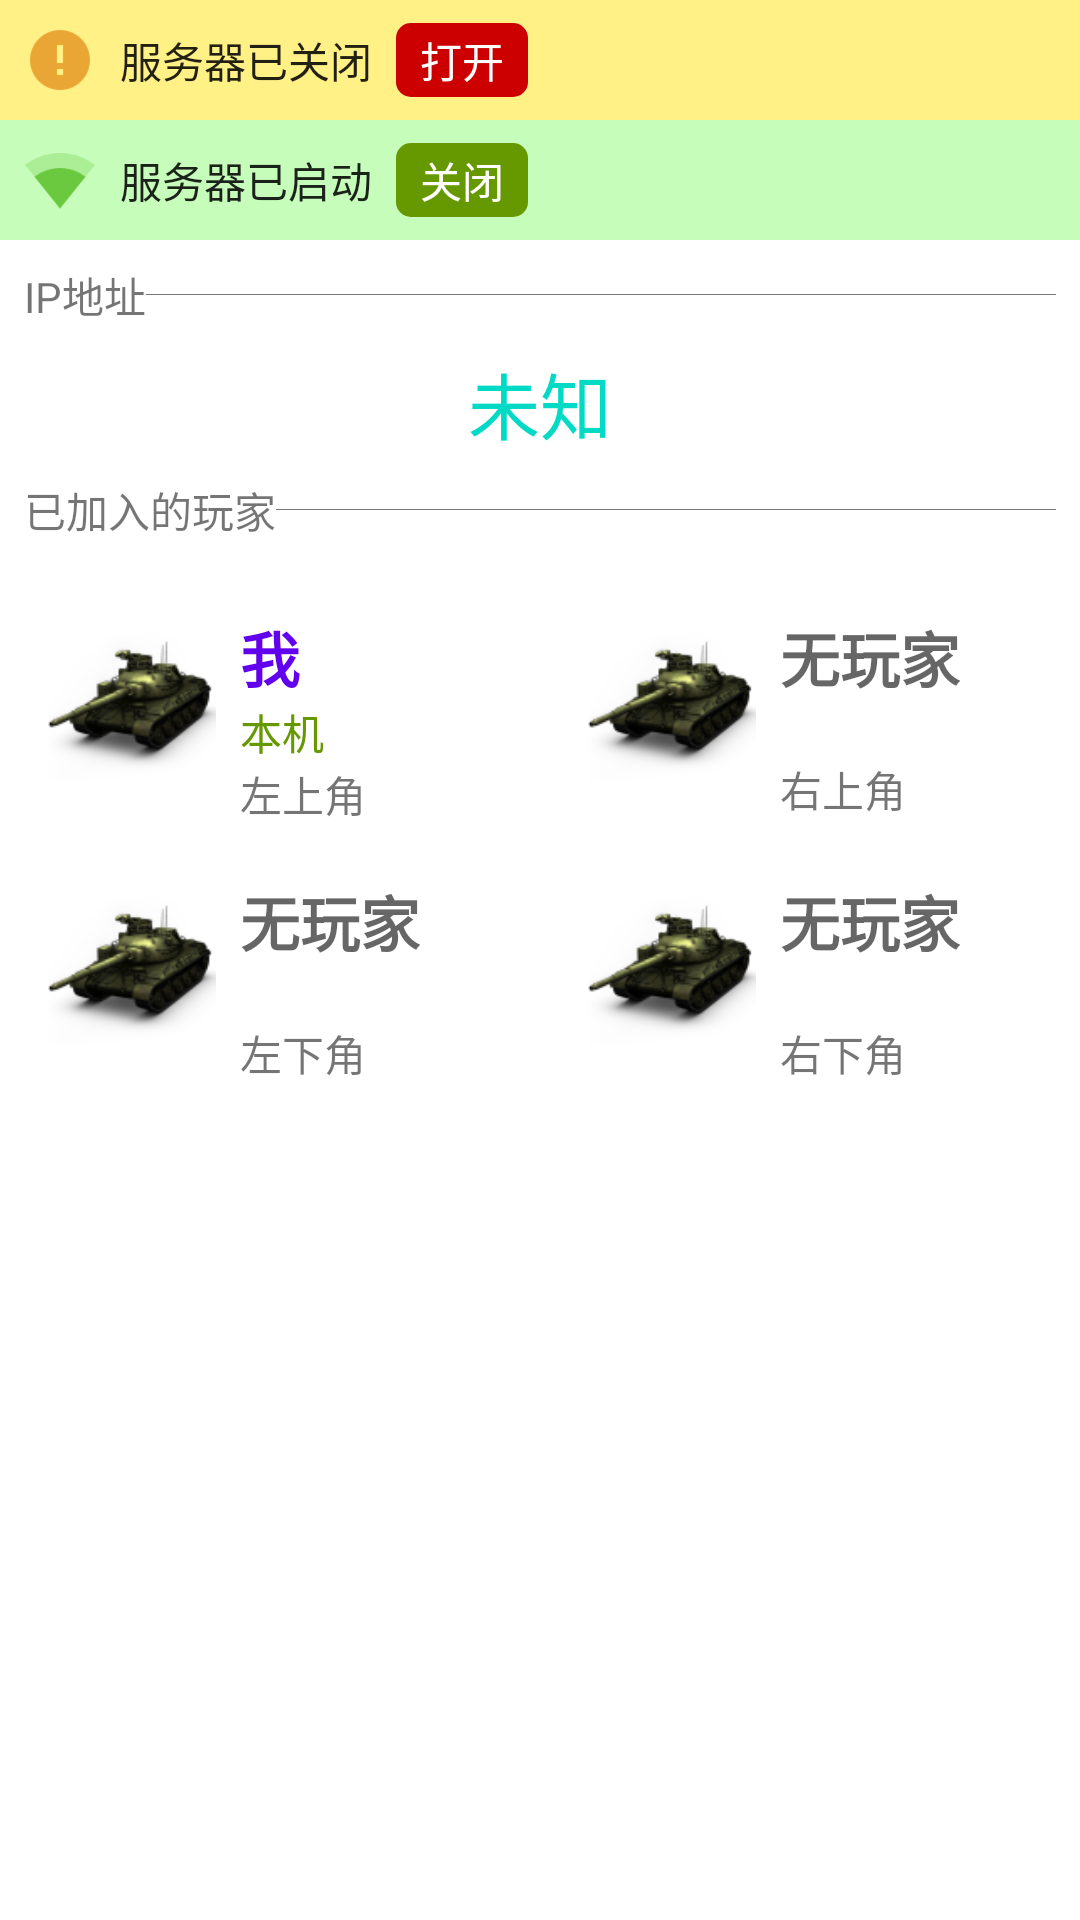

Icons on this 1080px x 1920px Android screen, each with its box as {"left": x1, "top": y1, "right": x2, "bottom": y2}:
network: {"left": 26, "top": 153, "right": 94, "bottom": 208}
tank: {"left": 48, "top": 641, "right": 216, "bottom": 762}, {"left": 588, "top": 641, "right": 756, "bottom": 762}, {"left": 48, "top": 905, "right": 216, "bottom": 1026}, {"left": 588, "top": 905, "right": 756, "bottom": 1026}
warn: {"left": 30, "top": 30, "right": 90, "bottom": 90}
